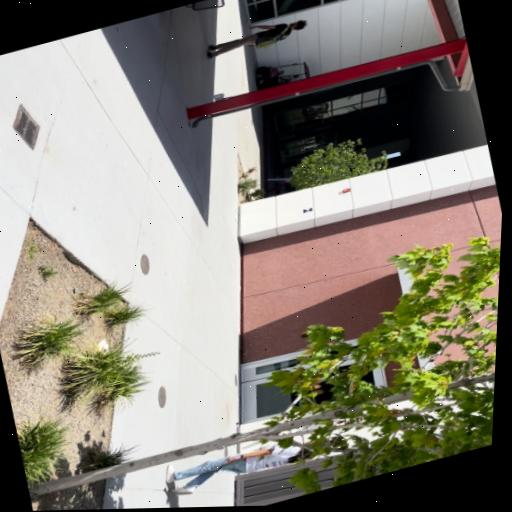target6: (303, 207, 313, 214)
